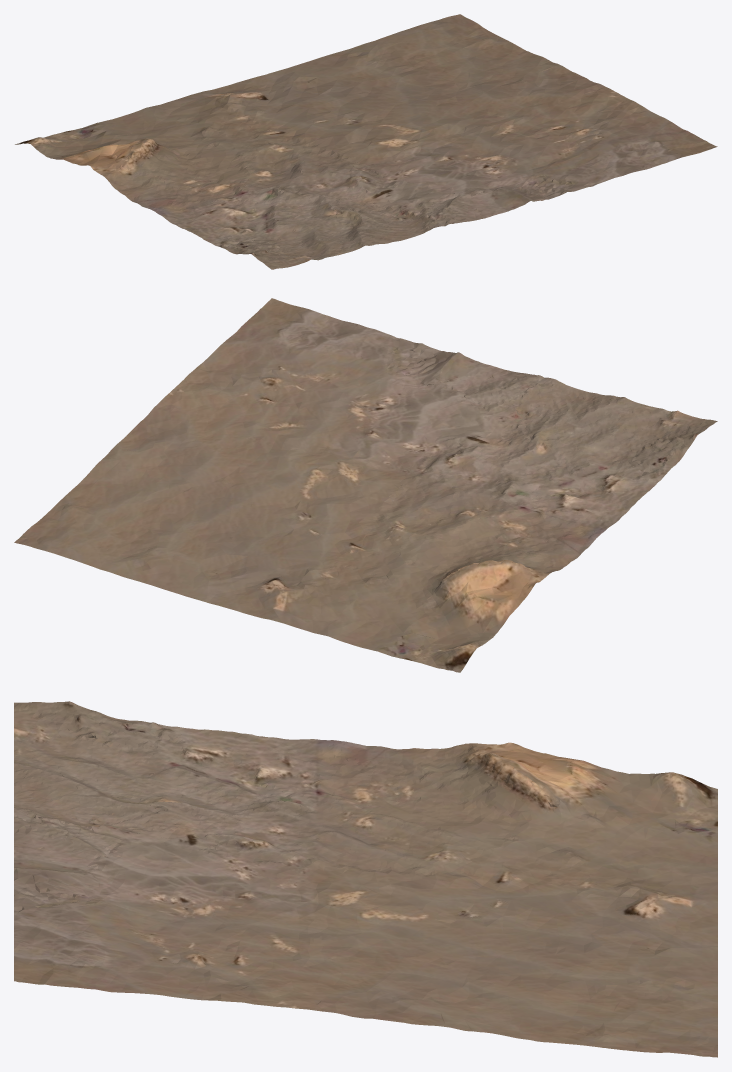
3 views of the same model, one above another, from view 1: azimuth 30°, elevation 25°; view 2: azimuth 150°, elevation 25°; view 3: azimuth 270°, elevation 25° (orthographic). The views are drawn at different scales.
Size of the model in its own units: 8.36 by 1.4 by 8.36.
Materials: 3 (3 with a texture image).
